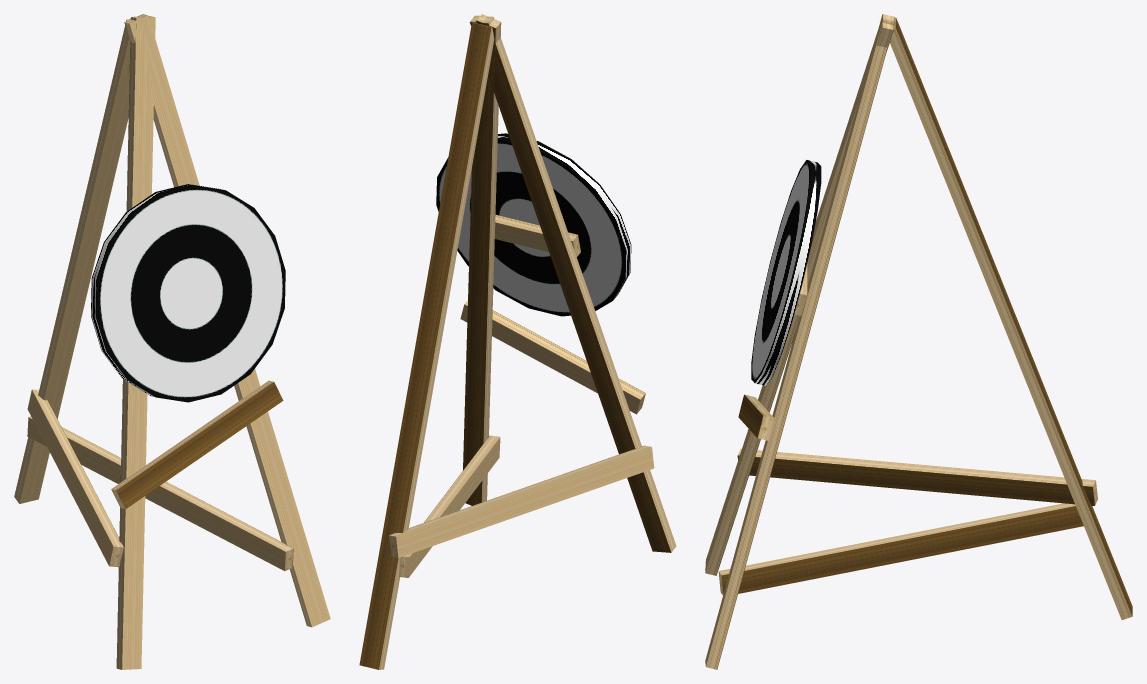
Rendered from target.fbx.
3 views of the same model, side by side, from view 1: azimuth 30°, elevation 25°; view 2: azimuth 150°, elevation 25°; view 3: azimuth 270°, elevation 25° (orthographic). The views are drawn at different scales.
Visible parts, largest first — view 1: Cylinder002, Box002, Box004, Box003, Box005, Box007, Box006; view 2: Box004, Cylinder002, Box002, Box003, Box006, Box007, Box005, Box008; view 3: Box004, Box005, Box003, Box006, Cylinder002, Box002, Box007.
Part boxes in pixels (x1,y1,x2,y2): Cylinder002: (91,184,285,402); Box002: (116,16,155,669); Box004: (14,18,130,503); Box003: (124,14,330,627); Box005: (27,416,293,570); Box007: (111,380,283,509); Box006: (27,389,123,567); Box004: (359,22,494,669); Cylinder002: (436,133,631,316); Box002: (470,15,676,552); Box003: (463,14,501,505); Box006: (388,445,654,557); Box007: (460,300,645,414); Box005: (399,435,500,577); Box008: (494,214,580,256); Box004: (890,17,1132,619); Box005: (718,503,1083,594); Box003: (705,14,894,669); Box006: (737,448,1097,505); Cylinder002: (751,160,821,385); Box002: (705,14,894,575); Box007: (738,394,774,440).
Size of the model in its own units: 110 by 288 by 185.
